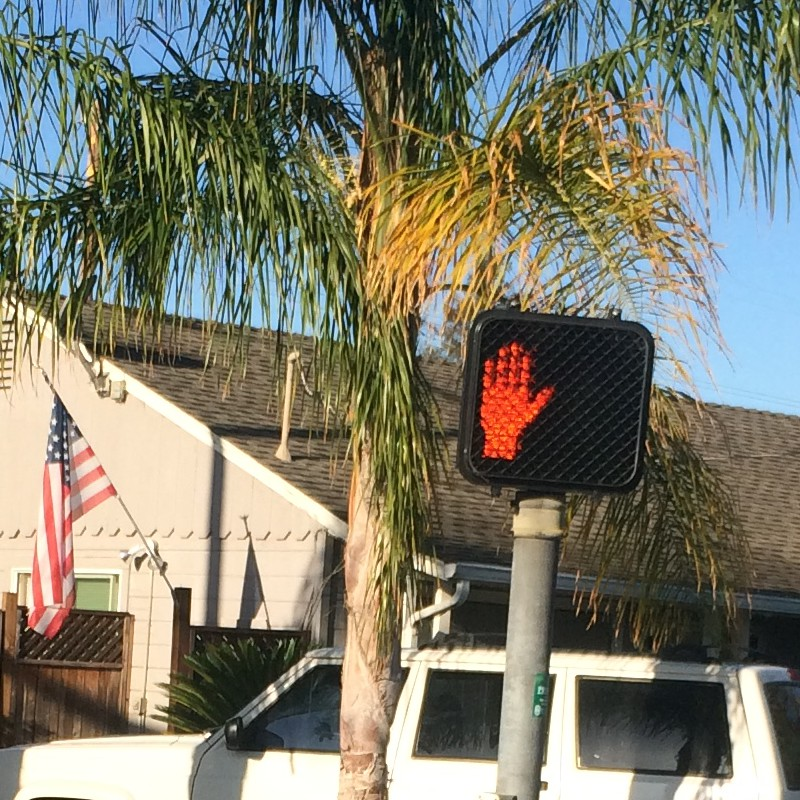stop: (467, 314, 655, 497)
